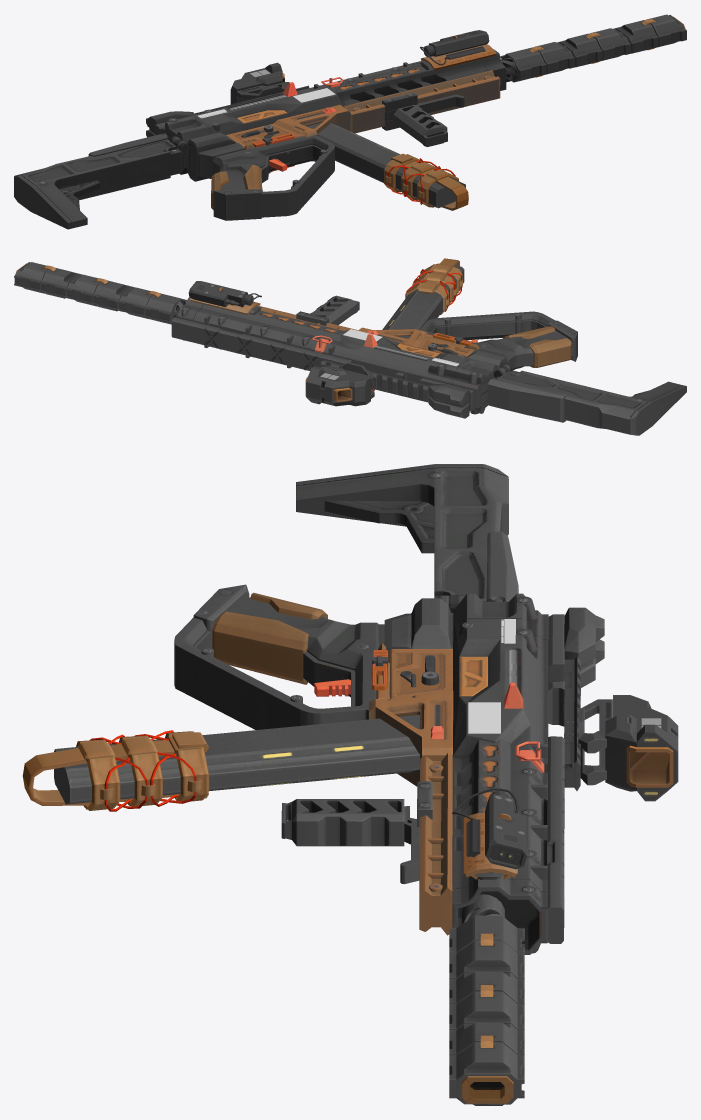
3 views of the same model, one above another, from view 1: azimuth 30°, elevation 25°; view 2: azimuth 150°, elevation 25°; view 3: azimuth 270°, elevation 25° (orthographic). The views are drawn at different scales.
Visible parts, largest first — view 1: wp01b_a001c_sm.mo, wp01b_magazine001c_sm.mo, wp01b_muzzle001c_sm.mo, wp01b_attach001c_sm.mo, wp01b_scope001c_sm.mo; view 2: wp01b_a001c_sm.mo, wp01b_muzzle001c_sm.mo, wp01b_magazine001c_sm.mo, wp01b_scope001c_sm.mo, wp01b_attach001c_sm.mo; view 3: wp01b_a001c_sm.mo, wp01b_magazine001c_sm.mo, wp01b_muzzle001c_sm.mo, wp01b_scope001c_sm.mo, wp01b_attach001c_sm.mo.
Part boxes in pixels (x1,y1,x2,y2): wp01b_a001c_sm.mo: (14,49,517,229); wp01b_magazine001c_sm.mo: (306,122,468,210); wp01b_muzzle001c_sm.mo: (500,14,686,82); wp01b_attach001c_sm.mo: (420,30,496,70); wp01b_scope001c_sm.mo: (230,62,289,104); wp01b_a001c_sm.mo: (171,295,686,435); wp01b_muzzle001c_sm.mo: (14,262,186,324); wp01b_magazine001c_sm.mo: (382,258,464,338); wp01b_scope001c_sm.mo: (305,362,374,406); wp01b_attach001c_sm.mo: (188,281,261,314); wp01b_a001c_sm.mo: (174,464,604,954); wp01b_magazine001c_sm.mo: (22,714,419,811); wp01b_muzzle001c_sm.mo: (449,915,524,1105); wp01b_scope001c_sm.mo: (578,695,678,801); wp01b_attach001c_sm.mo: (452,788,527,879).
Bounding box in the file's own units: 0.7452 × 0.0792 × 0.3425.
Materials: 7 (5 with a texture image).
